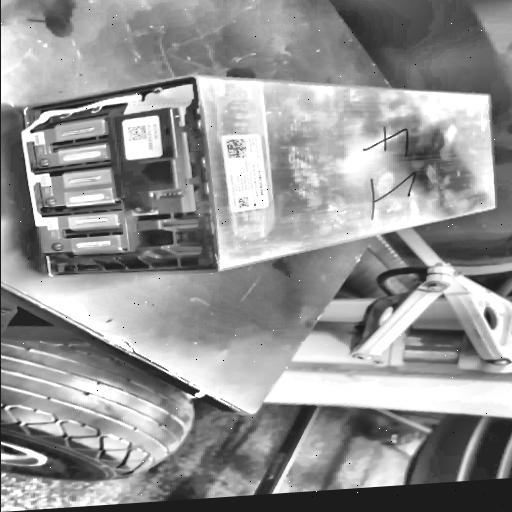battery_module: (21, 75, 498, 278)
